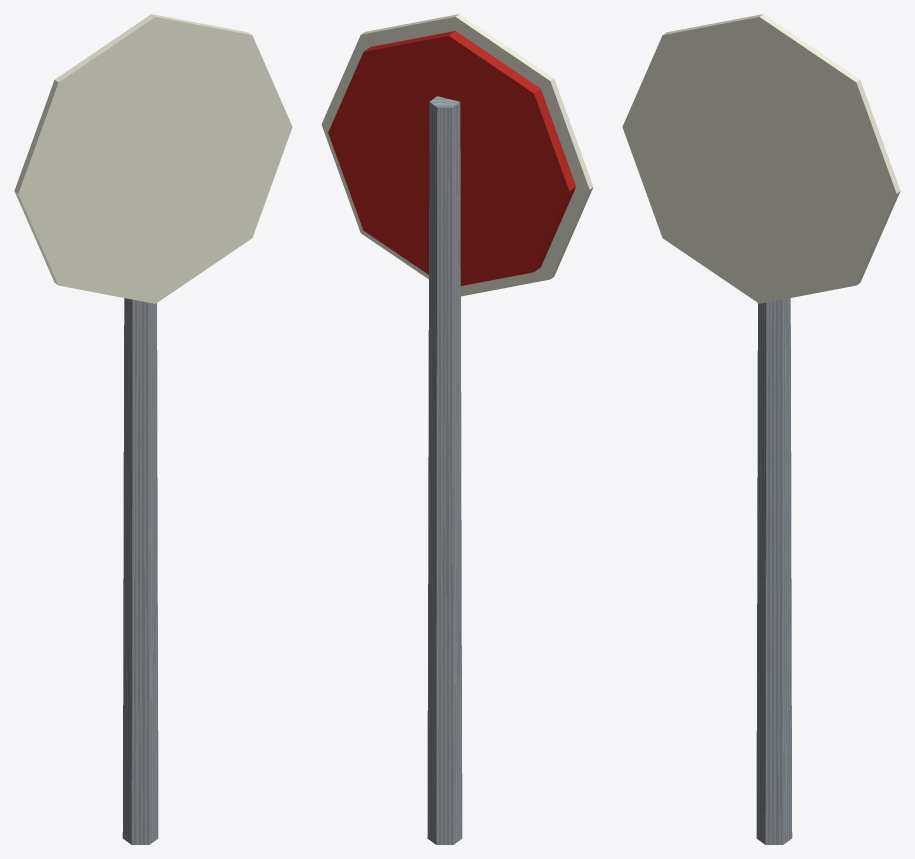
File: stop-sign-lod0.glb
The picture shows the model from 3 angles, left to right: view 1: azimuth 30°, elevation 25°; view 2: azimuth 150°, elevation 25°; view 3: azimuth 330°, elevation 25°; orthographic projection. The views are drawn at different scales.
Parts seen in each view (by area): view 1: stop-sign-lod0; view 2: stop-sign-lod0; view 3: stop-sign-lod0.
Boxes of the visible parts, bbox=[...] form: stop-sign-lod0: bbox=[14, 14, 292, 844]; stop-sign-lod0: bbox=[321, 14, 593, 844]; stop-sign-lod0: bbox=[622, 14, 900, 844].
Bounding box in the file's own units: 0.8 × 2.32 × 0.12.
1 material, 1 textured.
